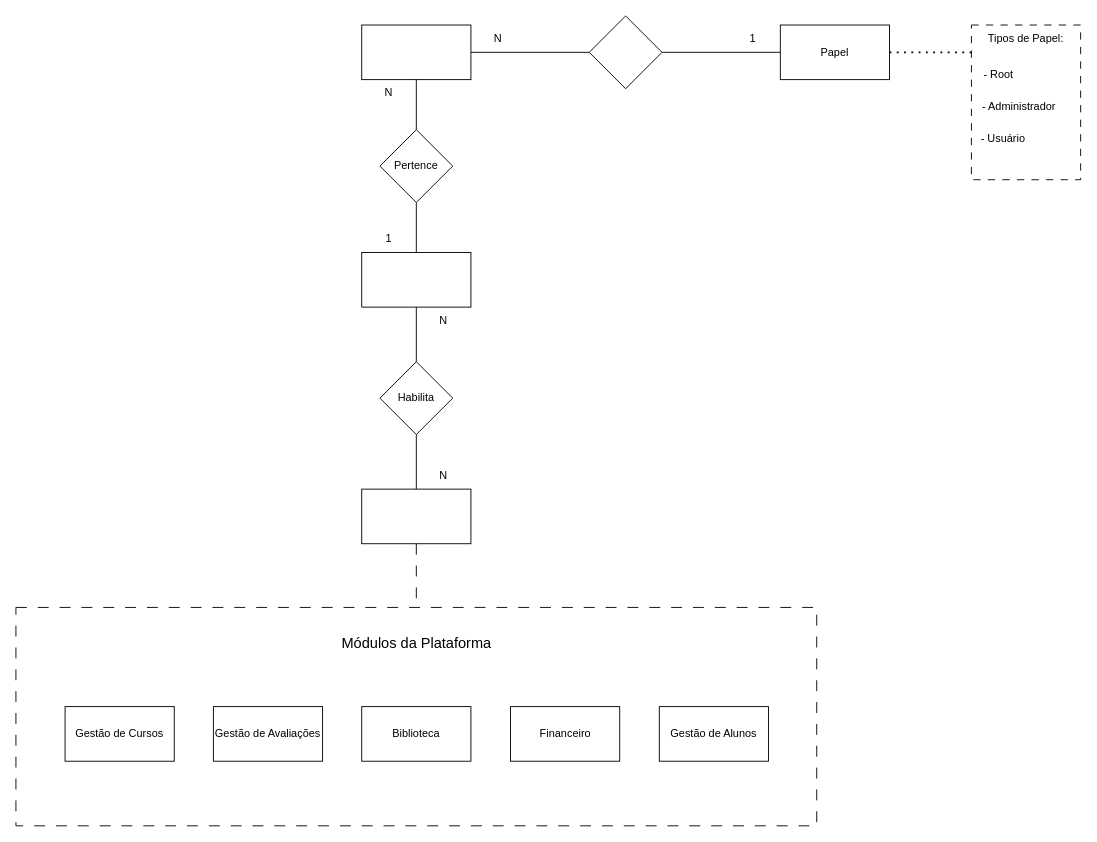
Image size: 1097x842. Some labels were removed from this diagram. The centre of each missing label's shape, as x and y in pixels:
"Grupo" belongs at point 416,279.
"Modulo" belongs at point 416,516.
"Possui" belongs at point 625,52.
"Usuário" belongs at point 416,52.
